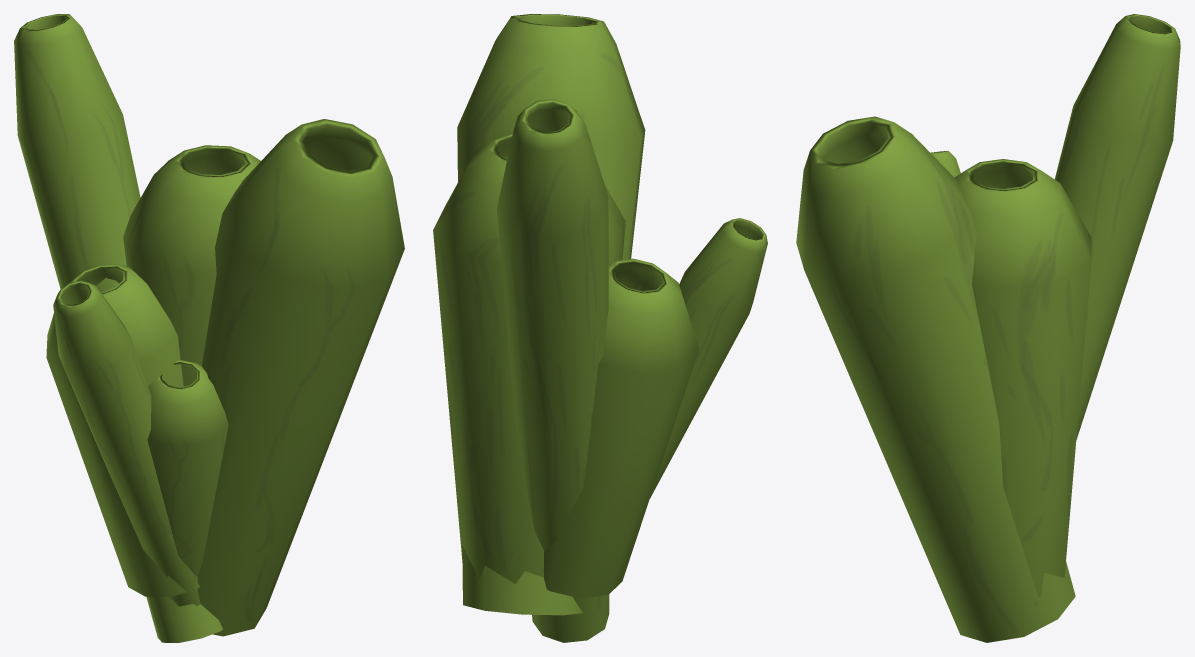
The model's file is Coral01.fbx.
The picture shows the model from 3 angles, left to right: view 1: azimuth 30°, elevation 25°; view 2: azimuth 150°, elevation 25°; view 3: azimuth 270°, elevation 25°; orthographic projection. The views are drawn at different scales.
Visible parts, largest first — view 1: Coral01; view 2: Coral01; view 3: Coral01.
Boxes of the visible parts, x1,y1,x2,y2 form: Coral01: (14, 14, 404, 642); Coral01: (433, 14, 767, 642); Coral01: (796, 14, 1180, 642).
Bounding box in the file's own units: 1.61 × 2.86 × 1.74.
